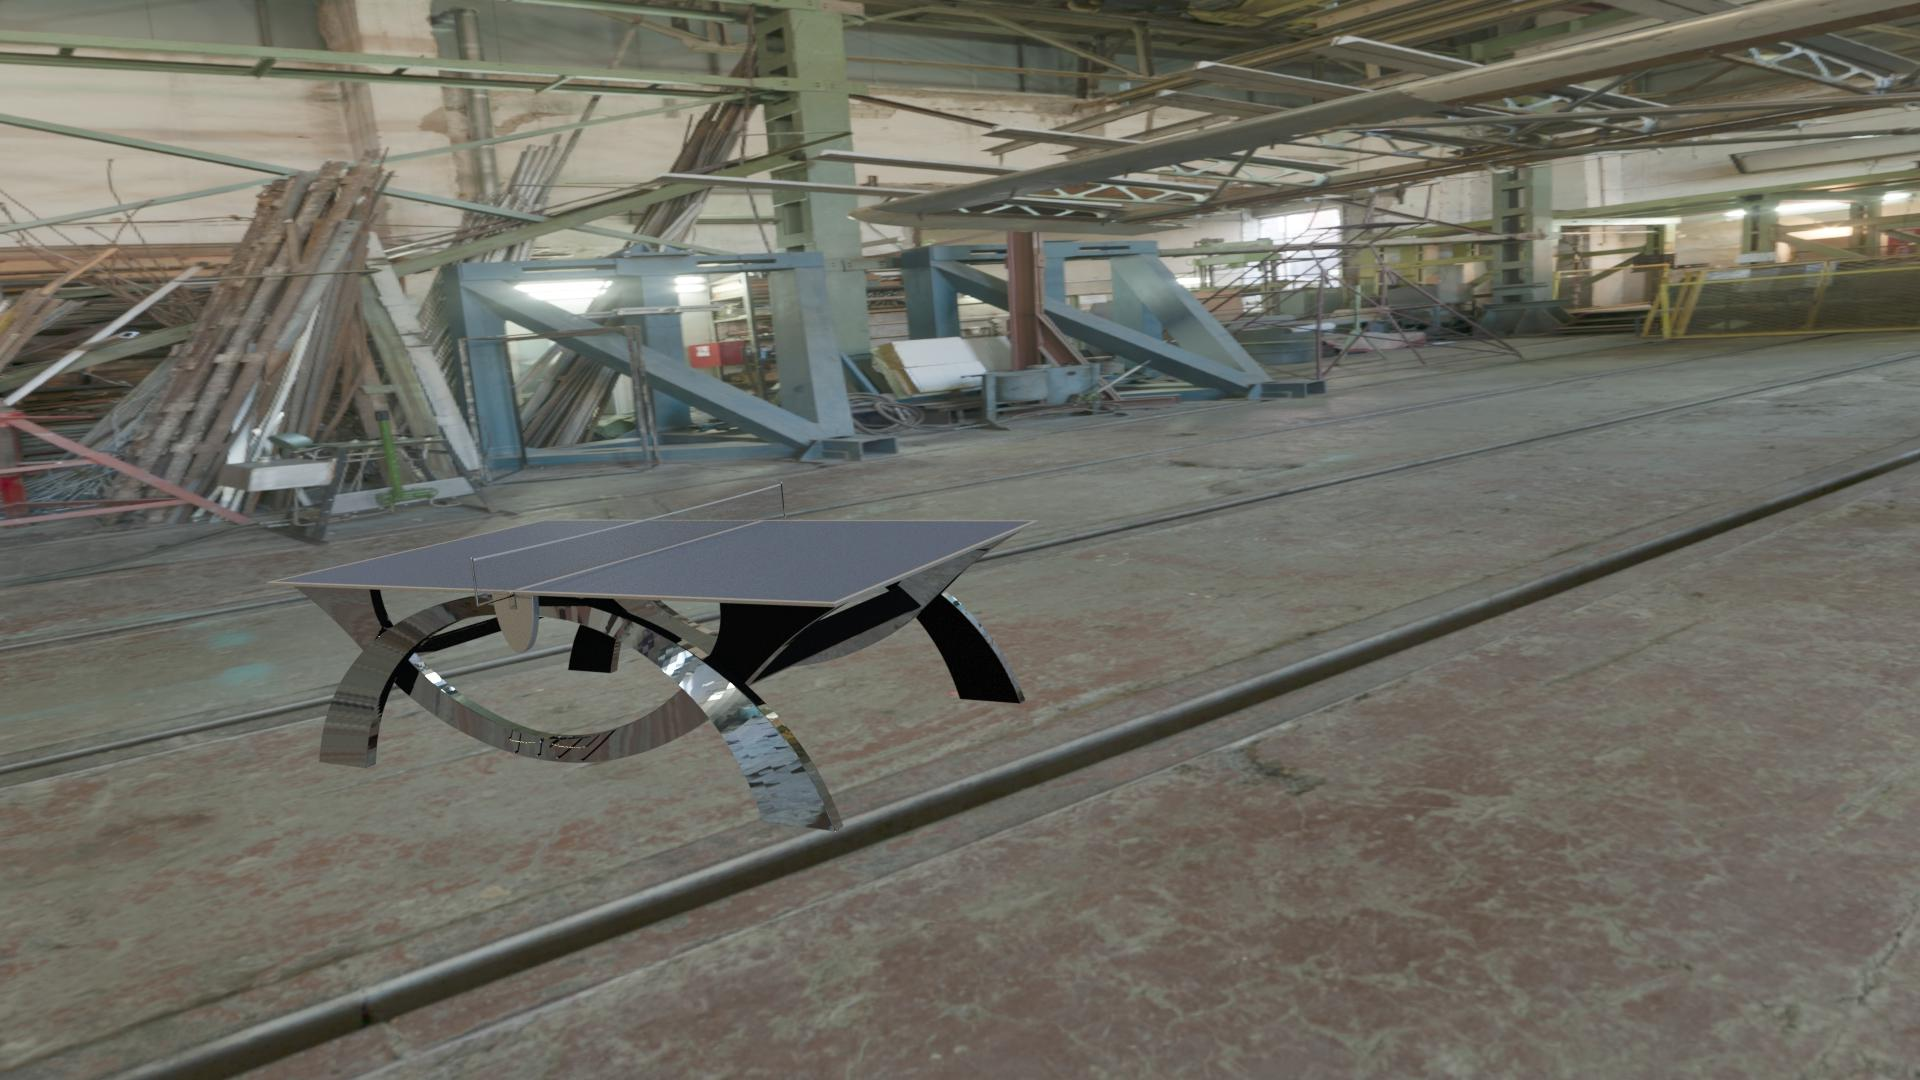table: (273, 521, 1033, 603)
